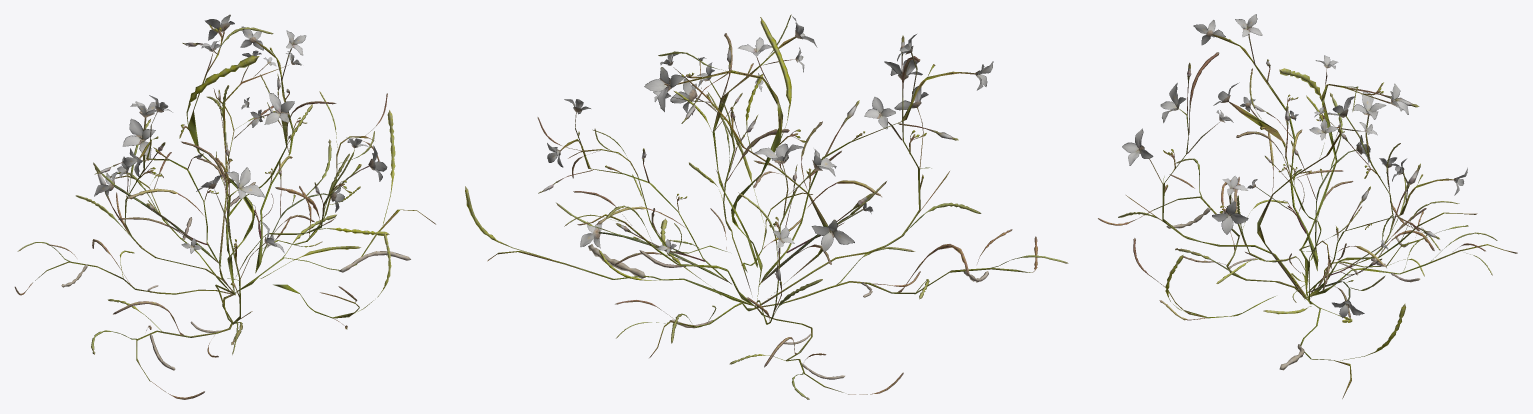
File: WhiteFlowers_Medium.fbx
3 views of the same model, side by side, from view 1: azimuth 30°, elevation 25°; view 2: azimuth 150°, elevation 25°; view 3: azimuth 270°, elevation 25° (orthographic). The views are drawn at different scales.
Visible parts, largest first — view 1: WhiteFlowers_Medium; view 2: WhiteFlowers_Medium; view 3: WhiteFlowers_Medium.
Part boxes in pixels (x1,y1,x2,y2): WhiteFlowers_Medium: (14,14,435,399); WhiteFlowers_Medium: (465,14,1068,399); WhiteFlowers_Medium: (1098,14,1517,398).
Bounding box in the file's own units: 0.4858 × 0.27 × 0.4334.
1 material, 1 textured.
